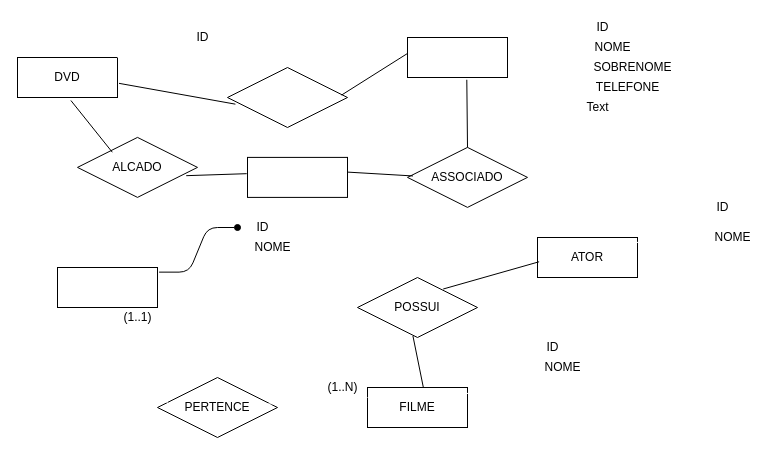
The diagram is 775 pixels wide and 455 high, and some of its shapes have lost their labels. The box of each missing label's shape, as (x1, y1, x2, y2) in pixels:
CATEGORIA: (56, 266, 158, 308)
CLIENTE: (406, 36, 508, 78)
EMPRESTIMO: (226, 66, 348, 128)
LOCADORA: (246, 156, 348, 197)
